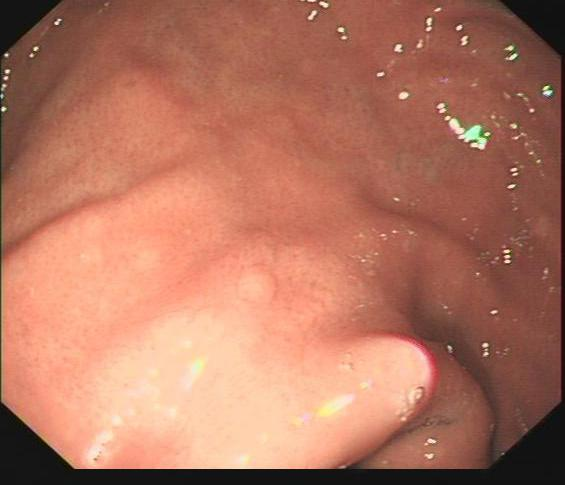Polyp: (227, 257, 283, 312)
